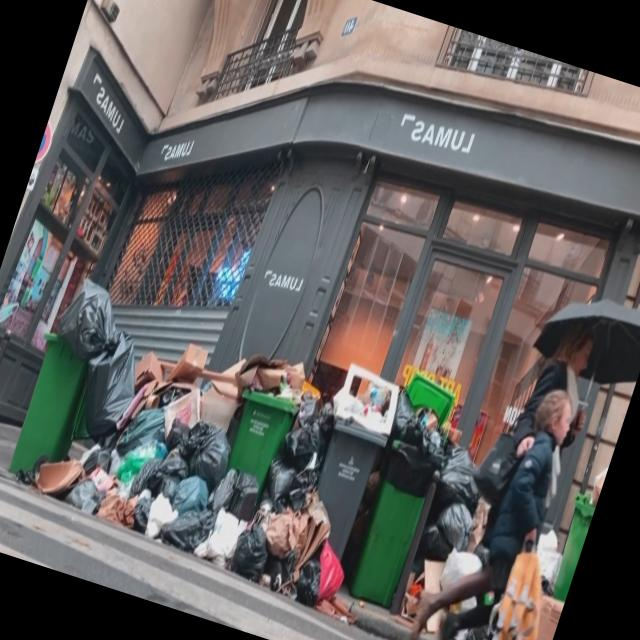high trash: (24, 282, 357, 625), (394, 392, 491, 622)
less trash: (536, 530, 564, 640)
